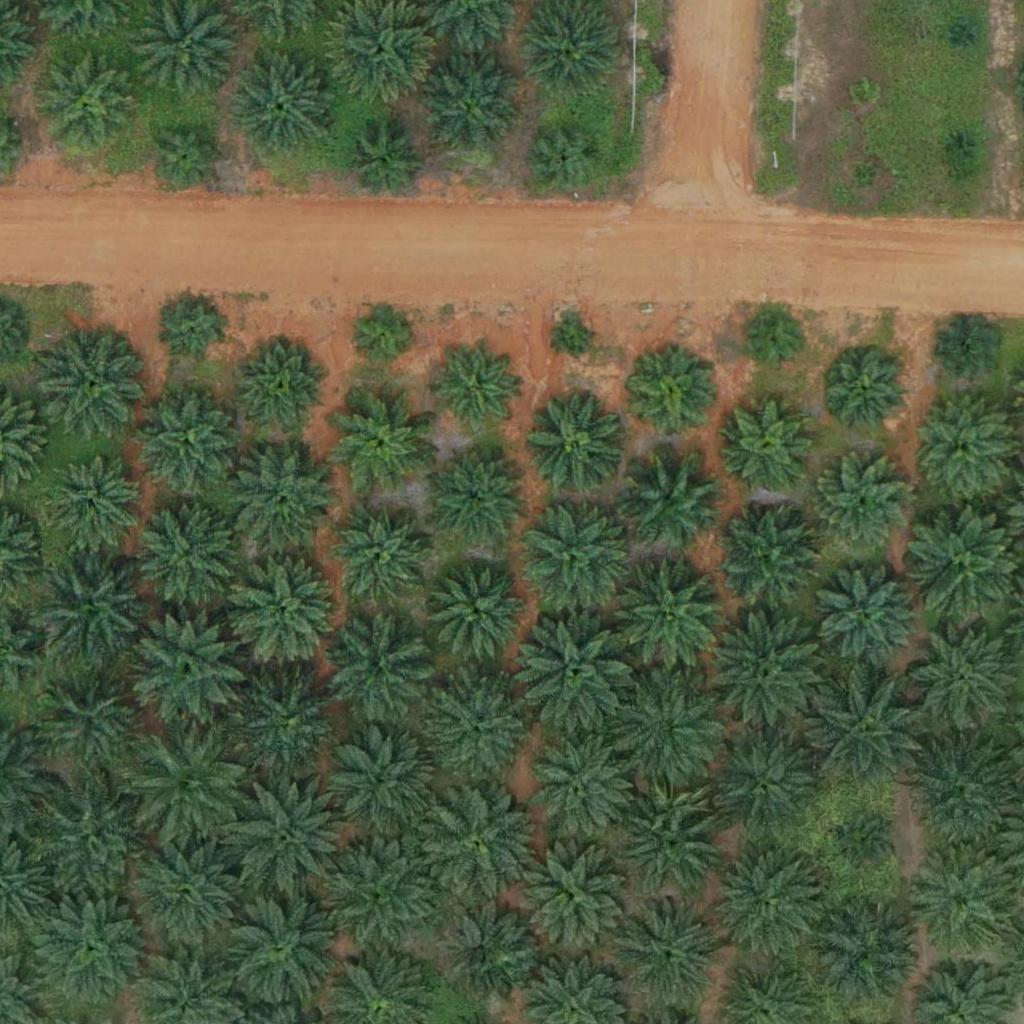Kelapa_Sawit: (27, 539, 152, 665), (26, 658, 151, 784), (26, 774, 151, 900), (127, 608, 252, 734), (125, 726, 250, 852), (222, 774, 347, 900), (510, 612, 635, 738), (603, 669, 728, 795), (699, 611, 824, 737), (804, 670, 929, 796), (218, 888, 343, 1014), (125, 828, 250, 954), (28, 885, 153, 1011), (223, 551, 348, 676), (413, 782, 538, 907), (320, 831, 445, 956), (613, 560, 726, 674), (713, 501, 826, 615), (812, 896, 925, 1010), (705, 728, 818, 841), (710, 845, 823, 958), (910, 845, 1022, 959), (519, 495, 631, 608), (522, 731, 634, 844), (612, 780, 724, 893), (813, 562, 925, 675), (904, 619, 1016, 732), (614, 893, 726, 1006), (420, 56, 520, 157), (233, 54, 333, 155), (37, 53, 137, 154), (46, 332, 146, 433), (40, 453, 140, 554), (137, 389, 237, 490), (137, 501, 237, 602), (232, 446, 332, 547), (240, 673, 340, 774), (334, 393, 434, 494), (329, 508, 429, 609), (330, 622, 430, 723), (334, 726, 434, 827), (426, 445, 526, 546), (428, 561, 528, 662), (425, 677, 525, 778), (522, 849, 622, 950), (809, 455, 909, 556), (913, 396, 1013, 497), (434, 900, 534, 1001), (526, 390, 626, 490), (621, 448, 721, 548), (431, 345, 519, 433), (724, 400, 812, 488), (823, 349, 911, 437), (243, 342, 330, 430), (630, 354, 717, 442), (529, 120, 604, 196), (347, 126, 422, 201), (151, 120, 226, 195), (834, 816, 897, 879), (935, 319, 998, 382), (164, 299, 226, 362), (350, 300, 412, 363), (745, 312, 807, 375), (557, 320, 594, 358), (850, 80, 875, 105), (853, 164, 878, 189), (953, 22, 978, 47), (946, 132, 971, 157)
